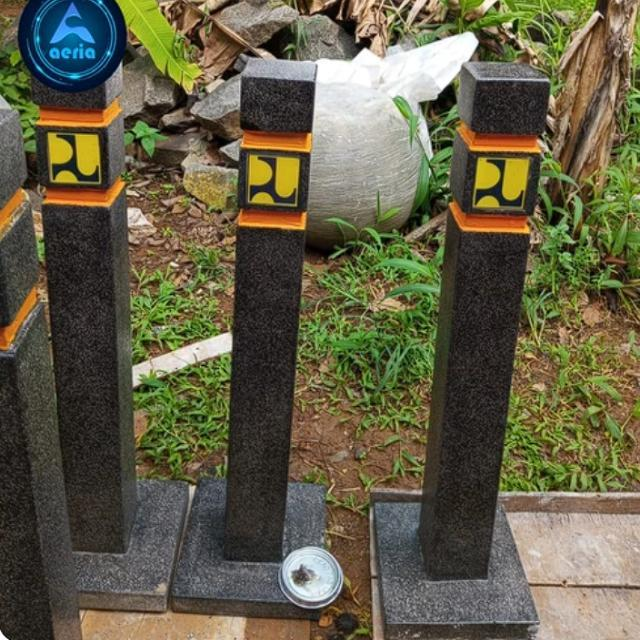obstacle: (426, 58, 542, 590), (218, 52, 312, 564), (40, 69, 130, 406)
